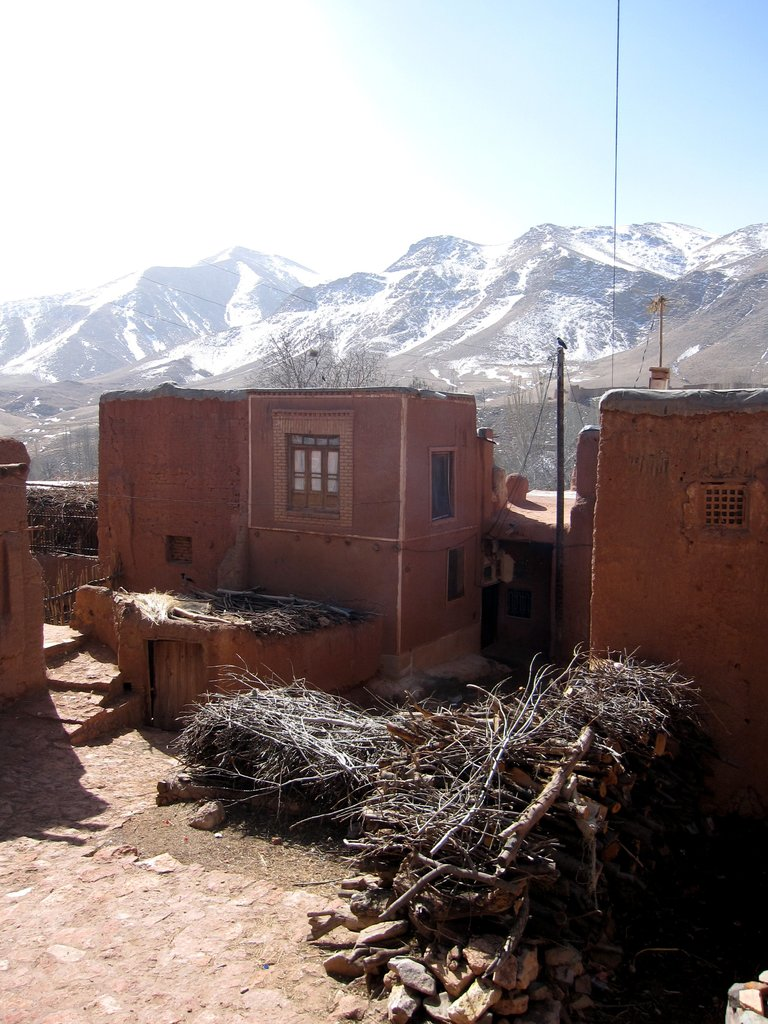Tree: (249, 320, 381, 394)
